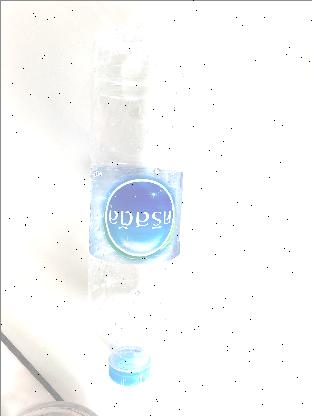Plastic Bottle: (81, 15, 186, 387)
